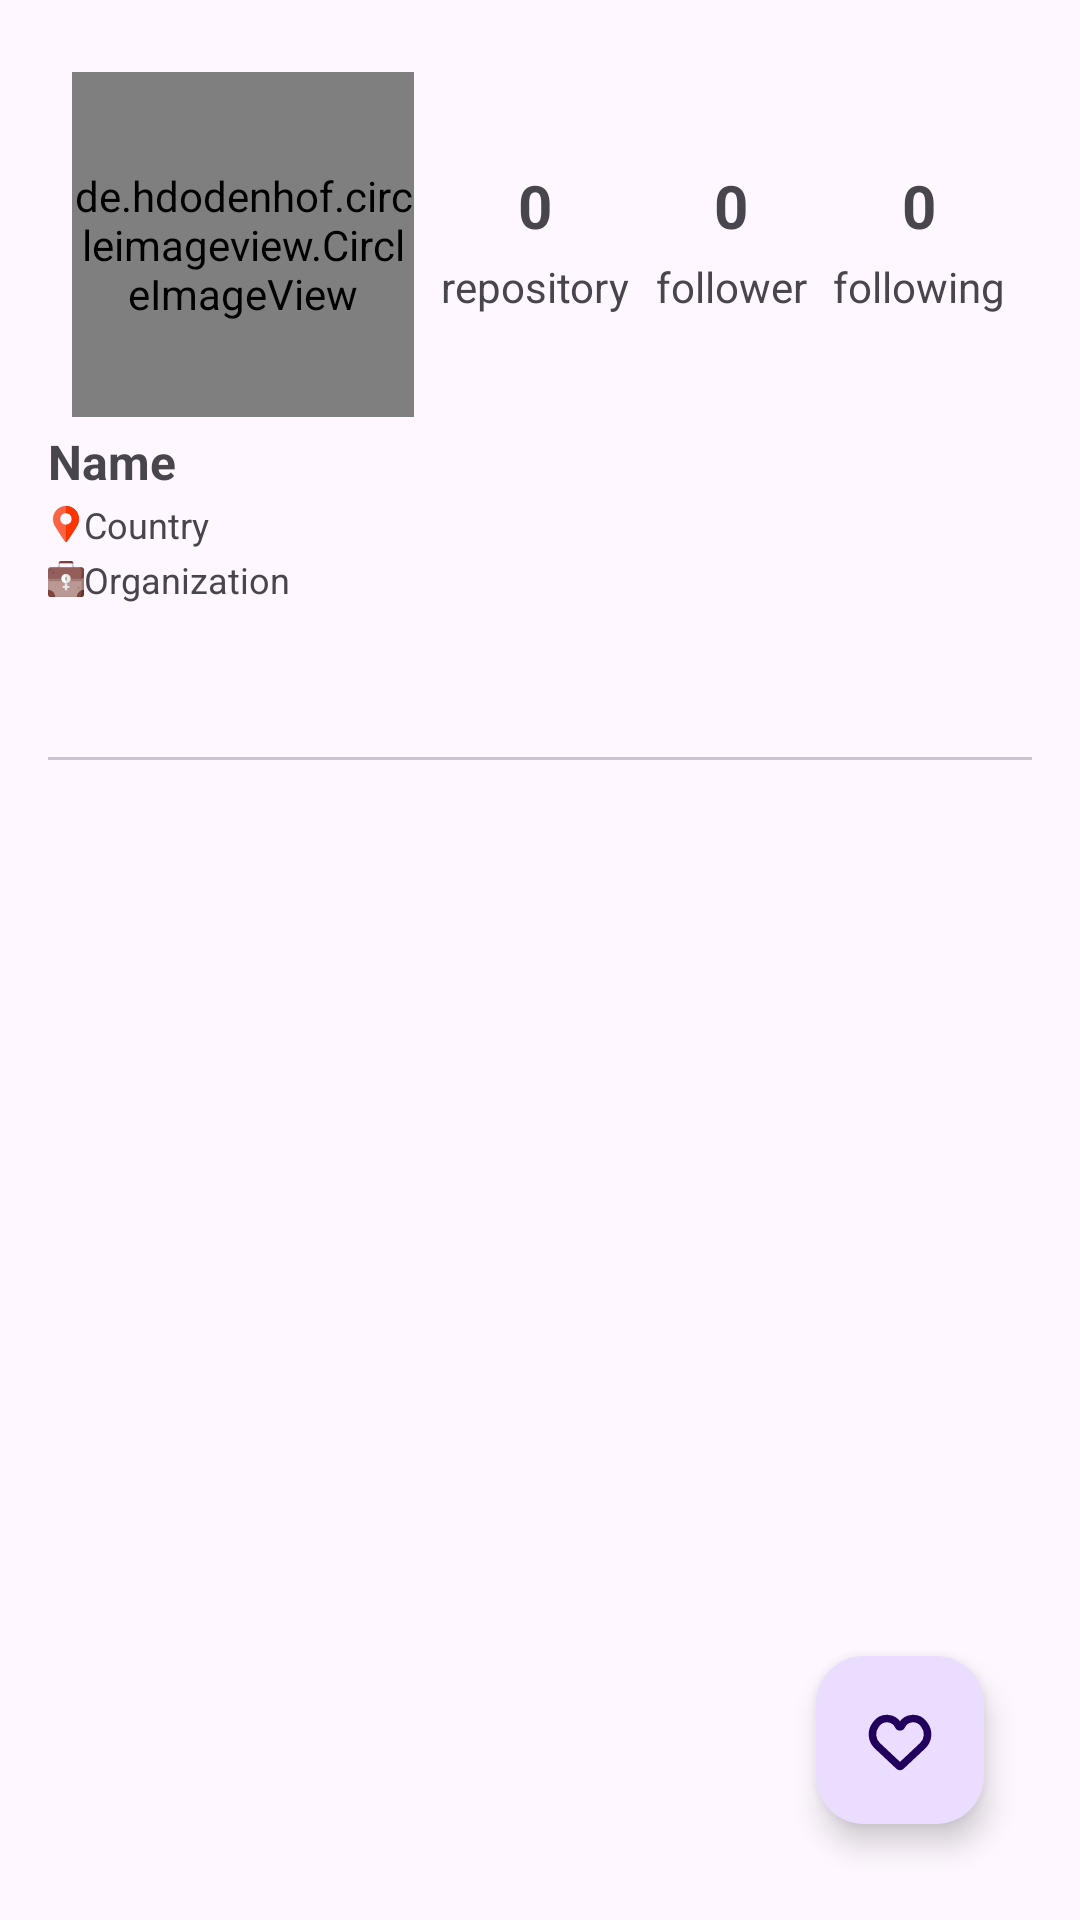

Where icons sit on this 1080*1920 app screen, as (left=x1, top=y1, right=x2, bottom=y2):
Favorite Button: (left=816, top=1656, right=984, bottom=1824)
